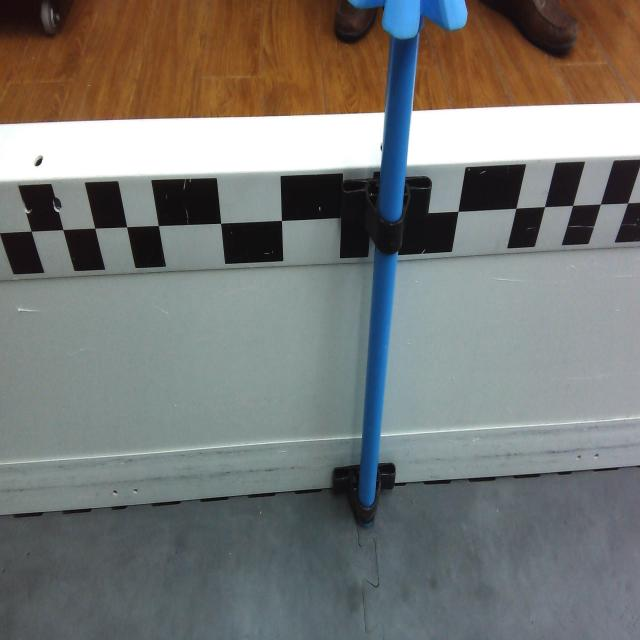zblue-Stake-Head: (351, 0, 470, 40)
